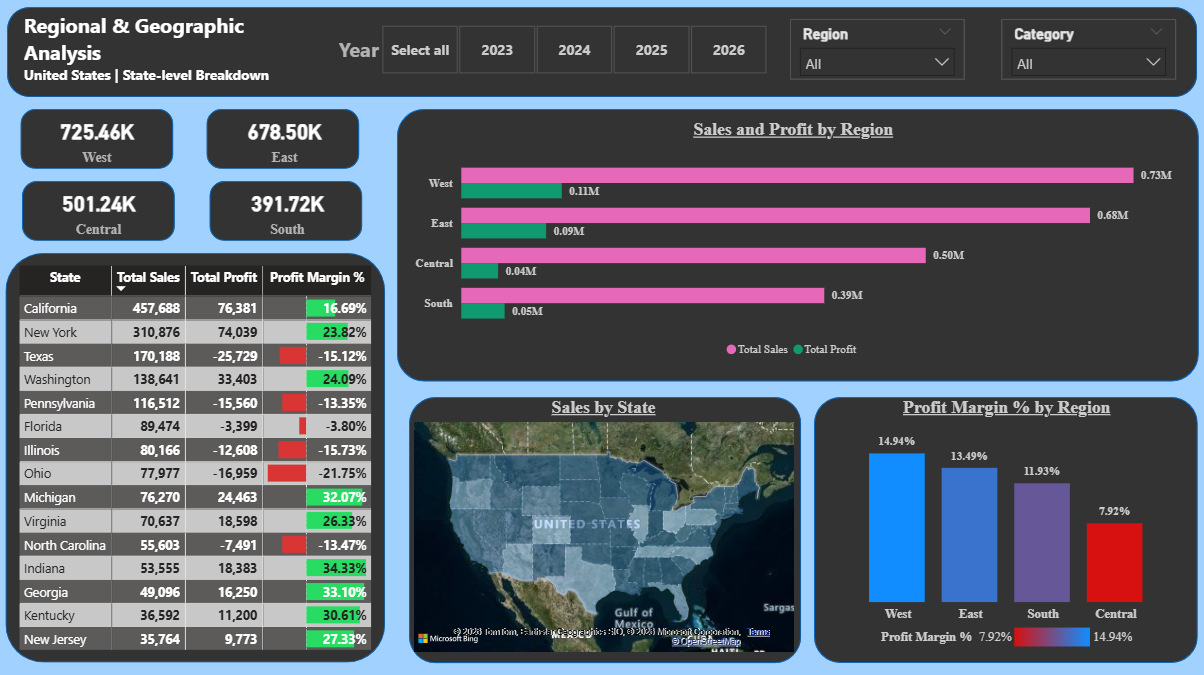

This screenshot's page, from the dashboard's own definition file:
{"tool":"powerbi","page":{"name":" Regional & Geographic Analysis","canvas":[1280,720],"ordinal":2},"visuals":[{"type":"shape","box":[9.4,9.4,1259.4,95.3],"z":0},{"type":"slicer","fields":{"Values":["DimDate.Year"]},"box":[381.2,21.9,456.2,64.1],"z":2500},{"type":"slicer","fields":{"Values":["fact_sales.Region"]},"box":[837.5,21.9,184.4,64.1],"z":2750},{"type":"slicer","fields":{"Values":["fact_sales.Category"]},"box":[1062.5,21.9,184.4,64.1],"z":5250},{"type":"textbox","box":[22.7,7.6,280.3,95.5],"z":6500},{"type":"textbox","box":[355.4,33.8,56.9,44.6],"z":6750},{"type":"shape","box":[23.3,116.7,161.7,63.3],"z":7000},{"type":"shape","box":[8.3,270,401.7,433.3],"z":8000},{"type":"shape","box":[421.7,116.7,848.3,288.3],"z":9000},{"type":"shape","box":[435,421.7,415,281.7],"z":10000},{"type":"shape","box":[220,116.7,161.7,63.3],"z":12000},{"type":"pivotTable","fields":{"Rows":["fact_sales.State"],"Values":["Measure.Total Sales","Measure.Total Profit","Measure.Profit Margin %"]},"box":[16.7,278.3,386.7,418.3],"z":12500},{"type":"shape","box":[223.3,193.3,161.7,63.3],"z":13000},{"type":"shape","box":[25,193.3,161.7,63.3],"z":14000},{"type":"shape","box":[863.1,421.5,406.2,281.5],"z":15000},{"type":"filledMap","title":"Sales by State","fields":{"Category":["fact_sales.State"]},"box":[435,421.7,411.7,275],"z":17500},{"type":"clusteredBarChart","title":"Sales and Profit by Region","fields":{"Category":["fact_sales.Region"],"Y":["Measure.Total Sales","Measure.Total Profit"]},"box":[435,128.3,813.3,261.7],"z":17750},{"type":"clusteredColumnChart","fields":{"Category":["fact_sales.Region"],"Y":["Measure.Profit Margin %"]},"box":[885,421.7,363.3,275],"z":19000},{"type":"card","fields":{"Values":["Measure.West Region Sale"]},"box":[28.3,116.7,151.7,63.3],"z":19500},{"type":"card","fields":{"Values":["Measure.East"]},"box":[226.7,116.7,151.7,63.3],"z":21500},{"type":"card","fields":{"Values":["Measure.North"]},"box":[30,193.3,151.7,63.3],"z":21750},{"type":"card","fields":{"Values":["Measure.South"]},"box":[230,193.3,151.7,63.3],"z":22500}]}

Visuals, with their boxes in screenshot pixels (x1, y1, x2, y2), scaled from the page's 1280x720 canvas onto the 1204x675 screenshot:
shape: Rect(9, 9, 1193, 98)
slicer - DimDate.Year: Rect(359, 21, 788, 81)
slicer - fact_sales.Region: Rect(788, 21, 961, 81)
slicer - fact_sales.Category: Rect(999, 21, 1173, 81)
textbox: Rect(21, 7, 285, 97)
textbox: Rect(334, 32, 388, 74)
shape: Rect(22, 109, 174, 169)
shape: Rect(8, 253, 386, 659)
shape: Rect(397, 109, 1195, 380)
shape: Rect(409, 395, 800, 659)
shape: Rect(207, 109, 359, 169)
pivotTable - fact_sales.State x Measure.Total Sales: Rect(16, 261, 379, 653)
shape: Rect(210, 181, 362, 241)
shape: Rect(24, 181, 176, 241)
shape: Rect(812, 395, 1194, 659)
"Sales by State" filledMap: Rect(409, 395, 796, 653)
"Sales and Profit by Region" clusteredBarChart: Rect(409, 120, 1174, 366)
clusteredColumnChart - fact_sales.Region x Measure.Profit Margin %: Rect(832, 395, 1174, 653)
card - Measure.West Region Sale: Rect(27, 109, 169, 169)
card - Measure.East: Rect(213, 109, 356, 169)
card - Measure.North: Rect(28, 181, 171, 241)
card - Measure.South: Rect(216, 181, 359, 241)
